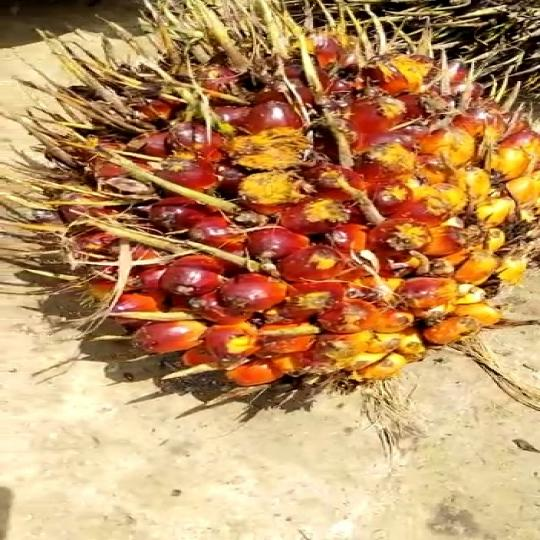masak: (1, 19, 540, 398)
